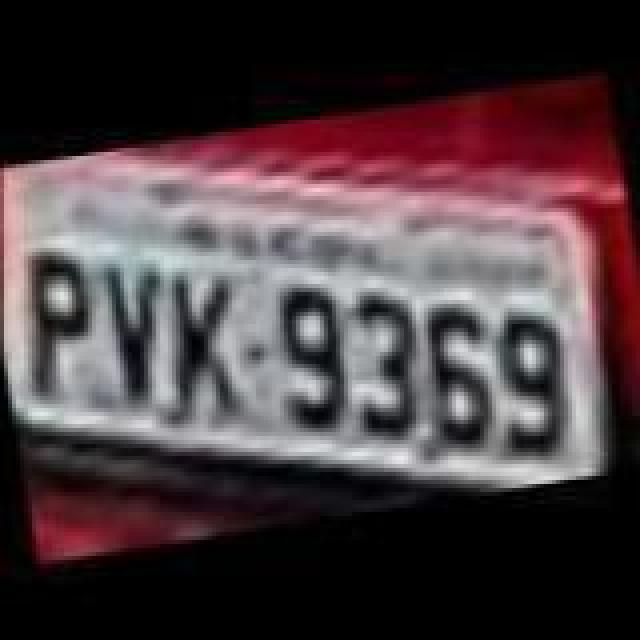3: (340, 286, 432, 446)
6: (414, 298, 502, 450)
9: (266, 278, 362, 434), (486, 308, 578, 460)
K: (154, 264, 250, 428)
P: (16, 248, 116, 400)
V: (96, 254, 180, 410)
